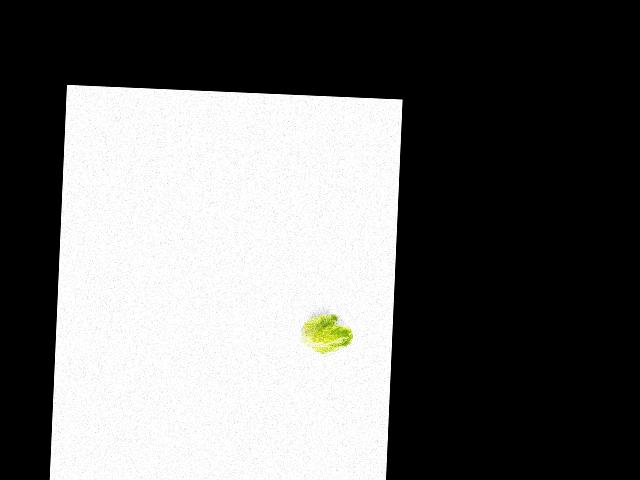lettuce: (294, 311, 357, 357)
